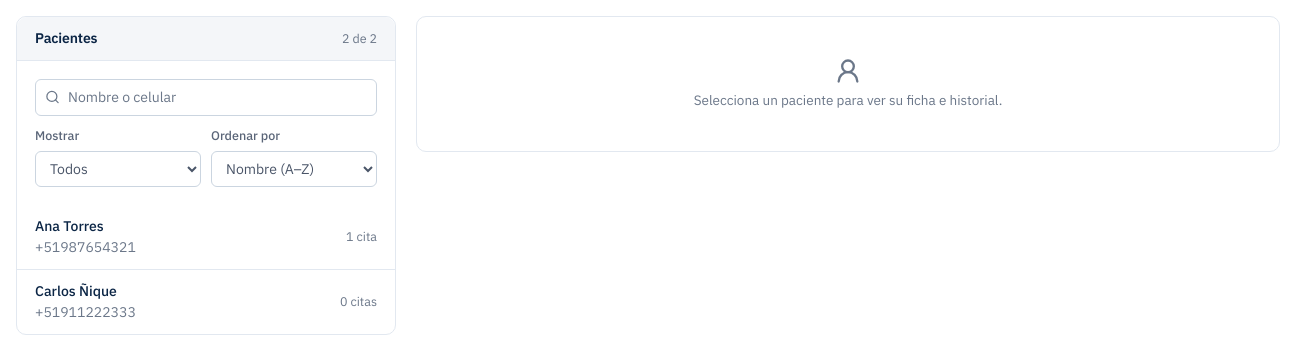
Test: Módulo de Pacientes › busca por nombre sin distinguir tildes ni mayúsculas y por celular
Type "nique" into the search field with test id "input-buscar-paciente" at (206, 97), box [35,79,377,116]
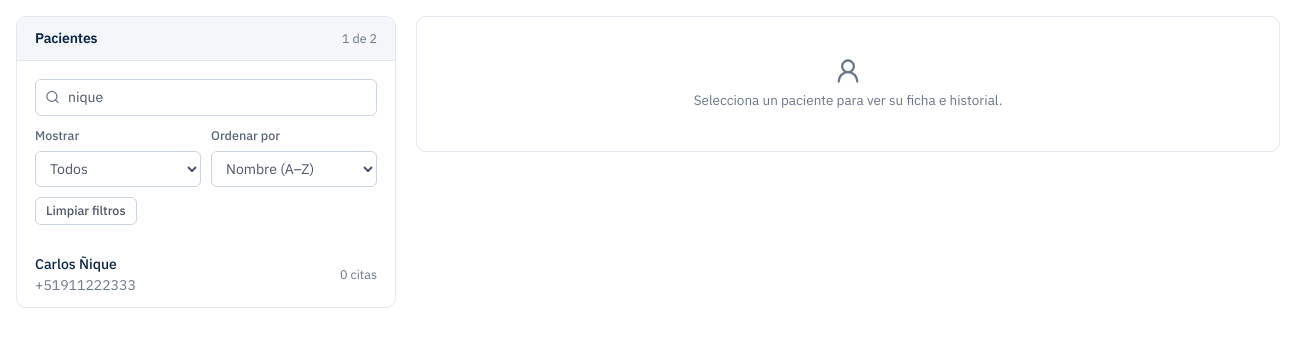
Expected: the text "Carlos Ñique" is shown, [35,254,117,272]
Expected: the number of buttons with test id "paciente-item" is 1, [17,242,395,306]
Replace the text in the search field with test id "input-buscar-paciente" with "98765" at (206, 97), box [35,79,377,116]
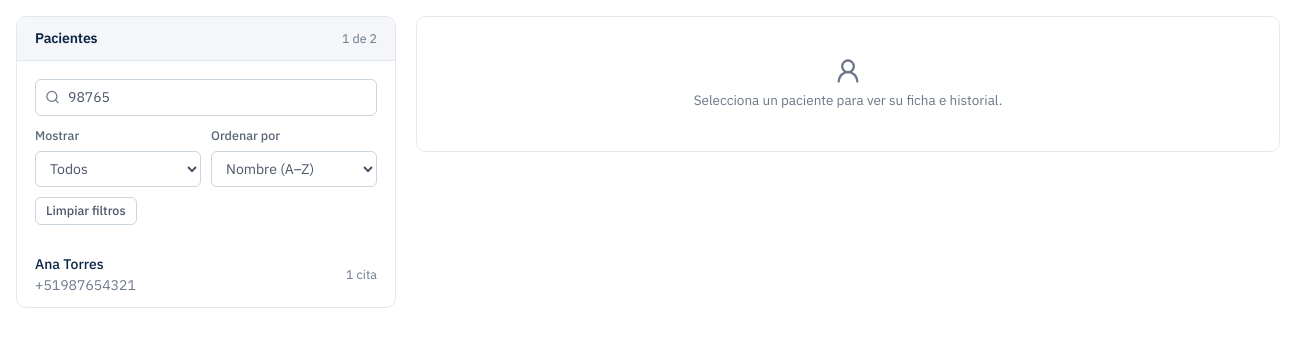
Expected: the text "Ana Torres" is shown, [35,254,104,272]
Expected: the text "Carlos Ñique" is gone
